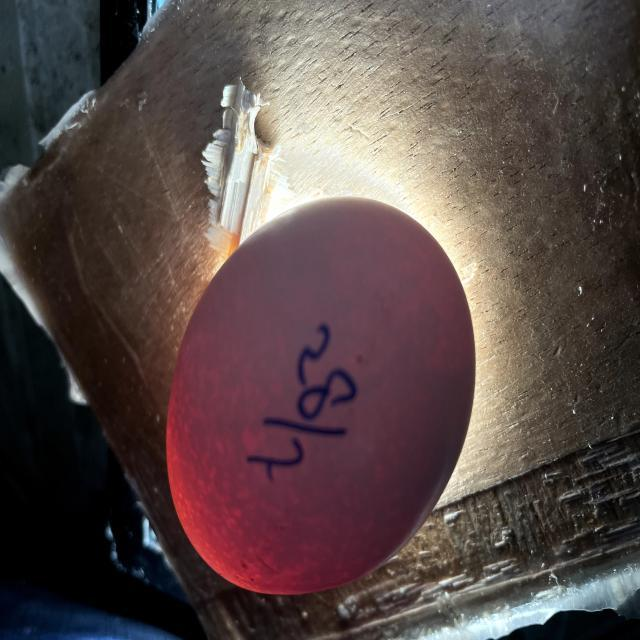Eggs: (167, 196, 475, 593)
